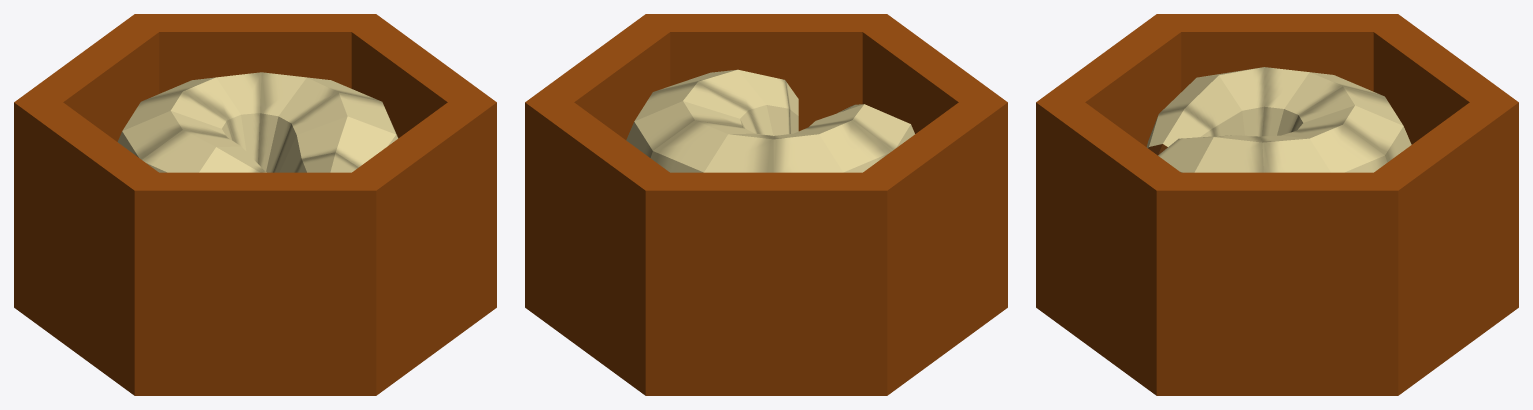
Rendered from HoneyComb_Larvae.fbx.
3 renders of one model, left to right at view 1: azimuth 30°, elevation 25°; view 2: azimuth 150°, elevation 25°; view 3: azimuth 270°, elevation 25°, orthographic.
Visible parts, largest first — view 1: Cylinder; view 2: Cylinder; view 3: Cylinder.
Part boxes in pixels (left/top/right/bottom): Cylinder: left=14, top=14, right=496, bottom=395; Cylinder: left=525, top=14, right=1007, bottom=395; Cylinder: left=1036, top=14, right=1518, bottom=395.
Size of the model in its own units: 173 by 93.79 by 200.
